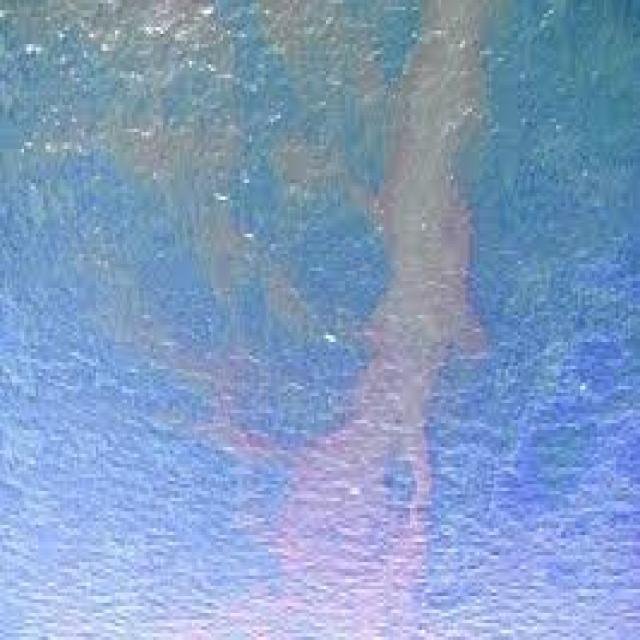oil: (351, 5, 494, 640)
